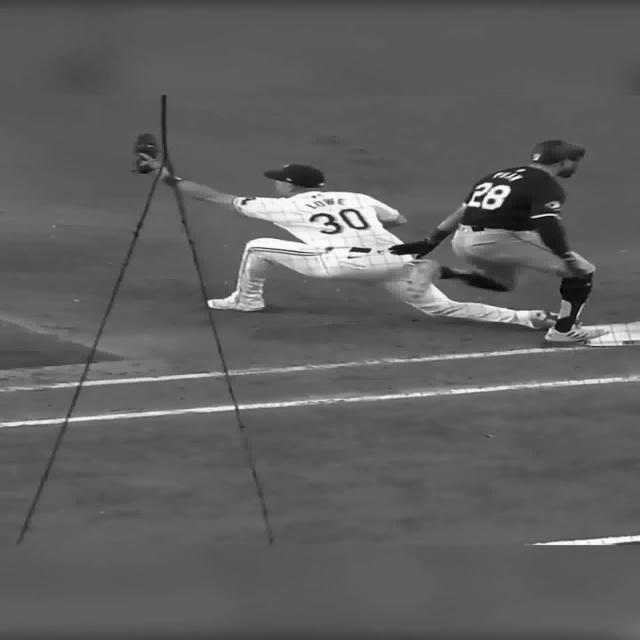base: (580, 323, 640, 345)
baseball_glove: (131, 133, 161, 174)
shoe: (543, 322, 609, 342), (206, 294, 265, 312), (528, 309, 560, 329)
